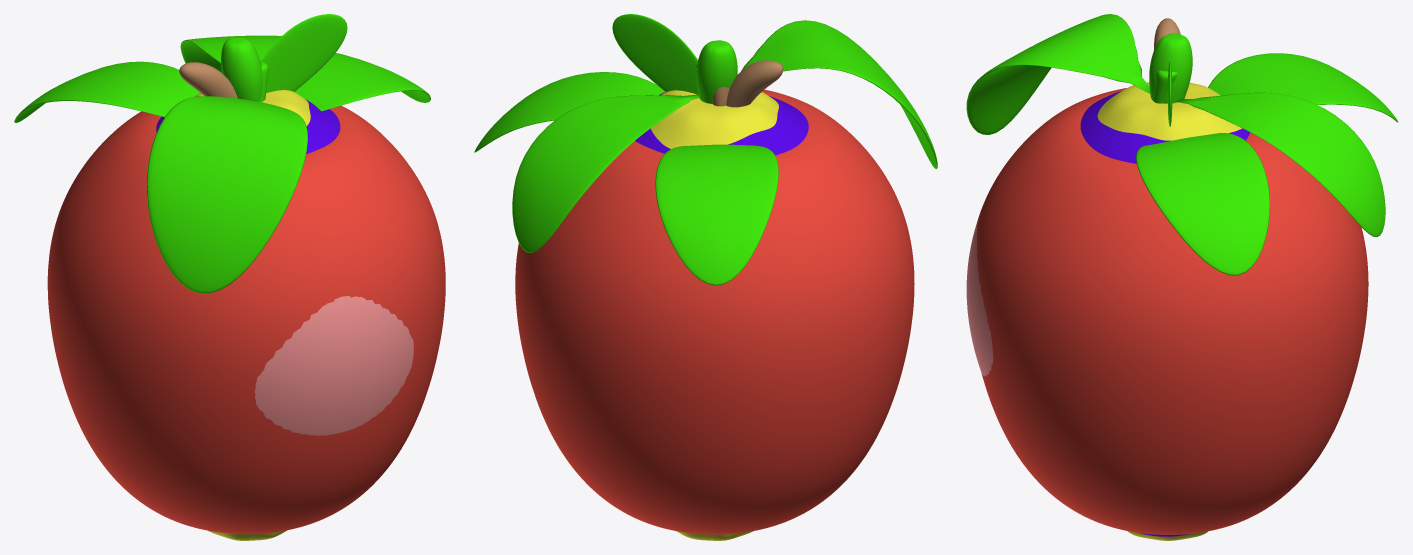
The model's file is PlainFruits.fbx.
3 views of the same model, side by side, from view 1: azimuth 30°, elevation 25°; view 2: azimuth 150°, elevation 25°; view 3: azimuth 270°, elevation 25° (orthographic).
Parts seen in each view (by area): view 1: Apple, Lemon, Peach, Grape; view 2: Apple, Lemon, Peach, Grape; view 3: Apple, Lemon, Peach, Grape.
Part boxes in pixels (x1,y1,x2,y2): Apple: [47, 14, 445, 534]; Lemon: [146, 35, 310, 540]; Peach: [14, 53, 430, 435]; Grape: [156, 37, 340, 154]; Apple: [515, 14, 914, 534]; Lemon: [512, 20, 937, 540]; Peach: [474, 72, 778, 285]; Grape: [635, 40, 808, 155]; Apple: [976, 18, 1368, 534]; Lemon: [966, 14, 1385, 540]; Peach: [966, 53, 1398, 376]; Grape: [1080, 33, 1249, 536].
Bounding box in the file's own units: 0.4964 × 0.6227 × 0.4891.
